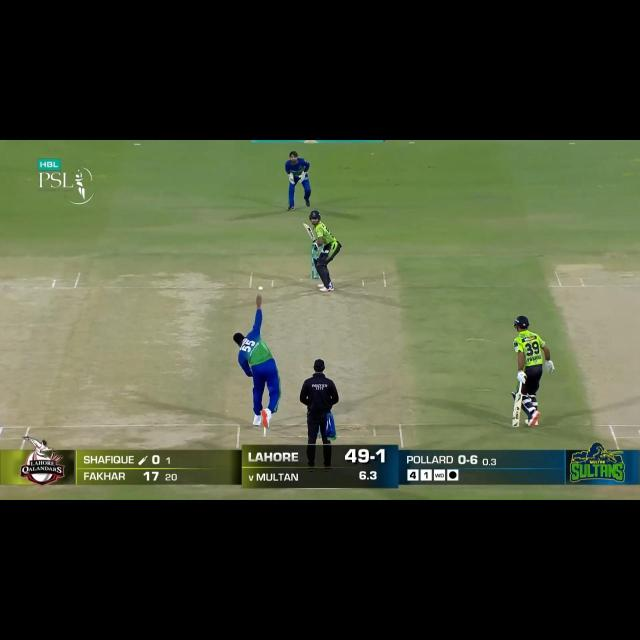bat: (511, 394, 524, 428), (302, 222, 317, 241)
toe: (511, 420, 520, 428), (301, 221, 309, 229)
